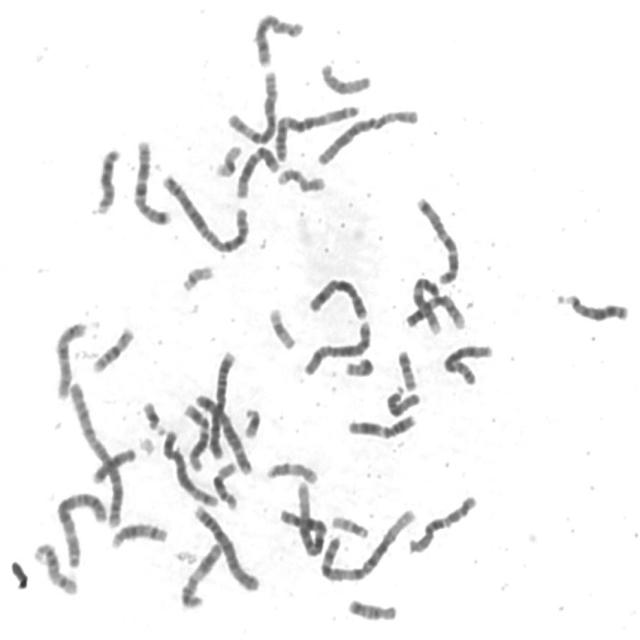A1: (315, 504, 418, 584), (274, 477, 329, 559)
A2: (65, 378, 125, 529), (158, 169, 251, 255)
A3: (271, 100, 361, 163), (52, 486, 109, 569)
B4: (188, 499, 262, 593), (204, 346, 238, 462)
B5: (191, 393, 255, 479), (158, 425, 220, 509)
C10: (404, 490, 479, 556), (50, 316, 88, 401)
C11: (177, 538, 224, 612), (343, 410, 419, 440)
C12: (232, 141, 282, 201), (179, 398, 212, 473)
C6: (312, 104, 421, 168), (223, 66, 280, 145)
C7: (412, 192, 462, 286), (129, 134, 174, 227)
C8: (250, 8, 306, 68), (440, 340, 495, 386)
C9: (402, 290, 466, 331), (408, 273, 444, 335)
D13: (553, 287, 630, 324), (91, 142, 123, 216)
D14: (29, 538, 79, 598), (106, 518, 170, 550)
D15: (316, 58, 373, 96), (382, 382, 422, 418)
E16: (88, 321, 137, 374), (210, 457, 240, 512)
E17: (274, 163, 328, 195), (262, 456, 320, 485)
E18: (87, 442, 138, 486), (343, 594, 399, 623)
F19: (264, 302, 298, 352), (212, 140, 243, 179)
F20: (393, 346, 419, 394), (341, 354, 376, 379)
G21: (138, 396, 166, 436), (239, 402, 262, 440)
G22: (327, 510, 371, 540), (178, 260, 215, 293)
X: (304, 273, 370, 322)
